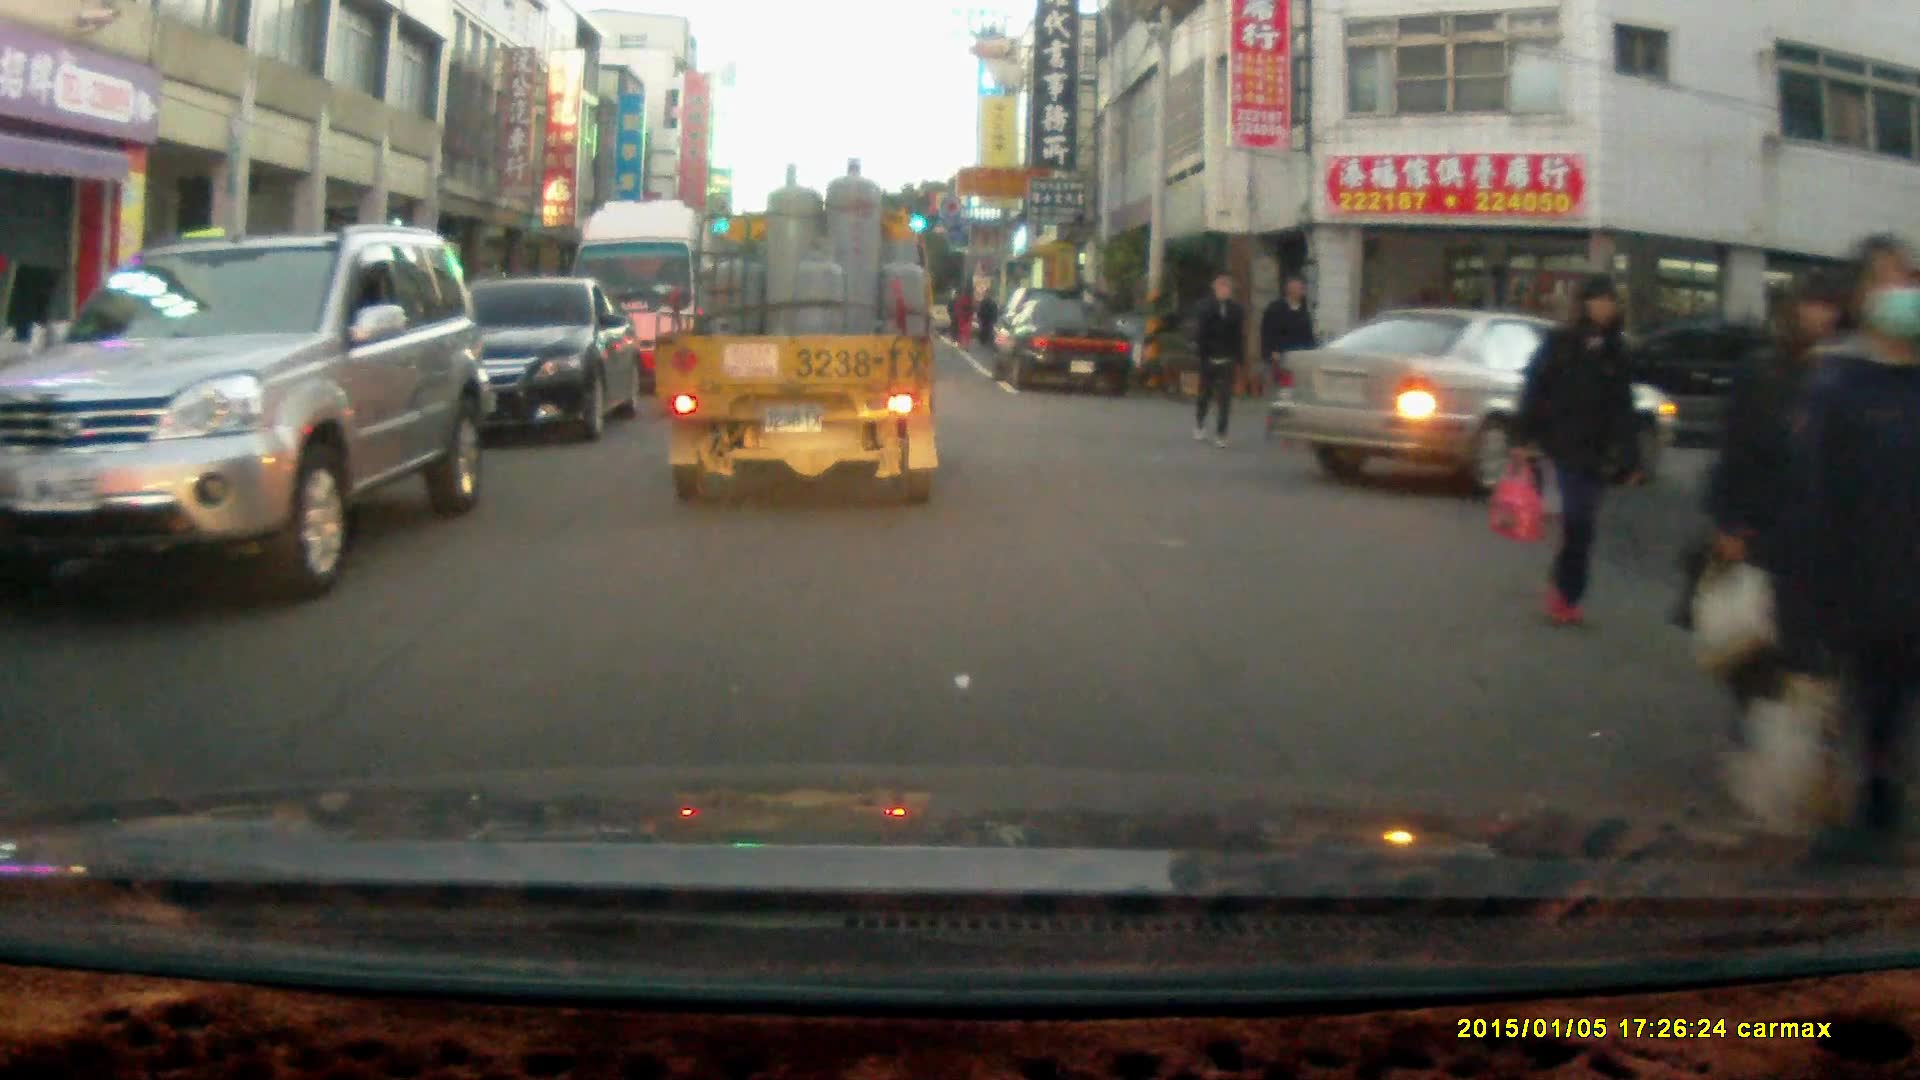pedestrian: (1775, 232, 1916, 879), (1704, 276, 1869, 797), (1517, 279, 1644, 635), (1256, 275, 1318, 451), (1188, 267, 1244, 451), (972, 284, 999, 352)
vehicle: (2, 224, 495, 609), (654, 159, 941, 516), (1277, 310, 1684, 509), (394, 280, 641, 449), (568, 202, 738, 402), (987, 301, 1137, 400)
